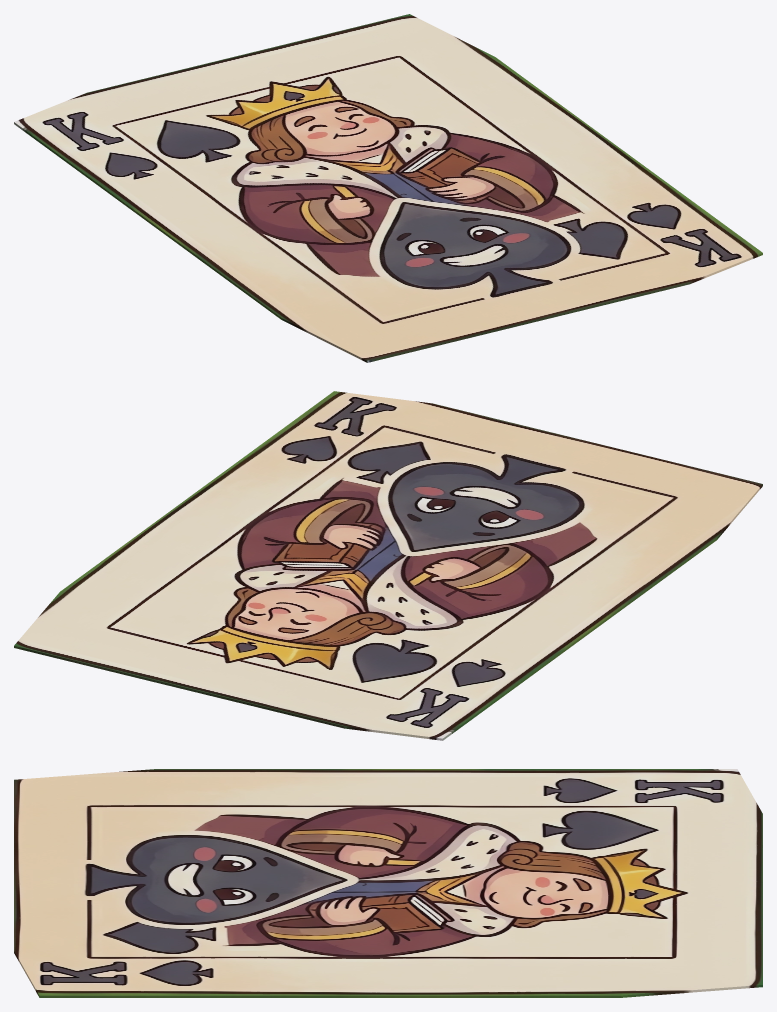
Rendered from Carta_Poker_Cartoon_Rey_Picas.glb.
3 views of the same model, one above another, from view 1: azimuth 30°, elevation 25°; view 2: azimuth 150°, elevation 25°; view 3: azimuth 270°, elevation 25° (orthographic). The views are drawn at different scales.
Parts seen in each view (by area): view 1: Carta_Poker_Cartoon_Rey_Picas; view 2: Carta_Poker_Cartoon_Rey_Picas; view 3: Carta_Poker_Cartoon_Rey_Picas.
Part boxes in pixels (x1,y1,x2,y2): Carta_Poker_Cartoon_Rey_Picas: (14,14,762,362); Carta_Poker_Cartoon_Rey_Picas: (14,391,762,740); Carta_Poker_Cartoon_Rey_Picas: (14,769,762,997).
Size of the model in its own units: 0.063 by 0.0003 by 0.088.
1 material, 1 textured.
